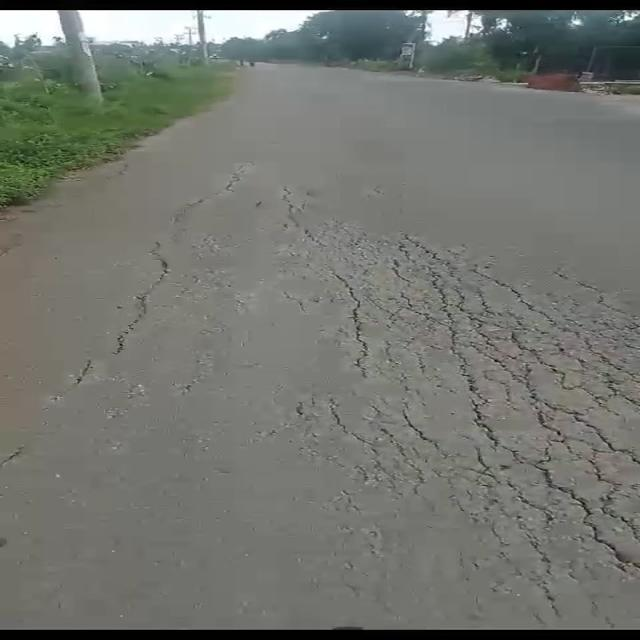Retak Buaya: (330, 239, 640, 556)
